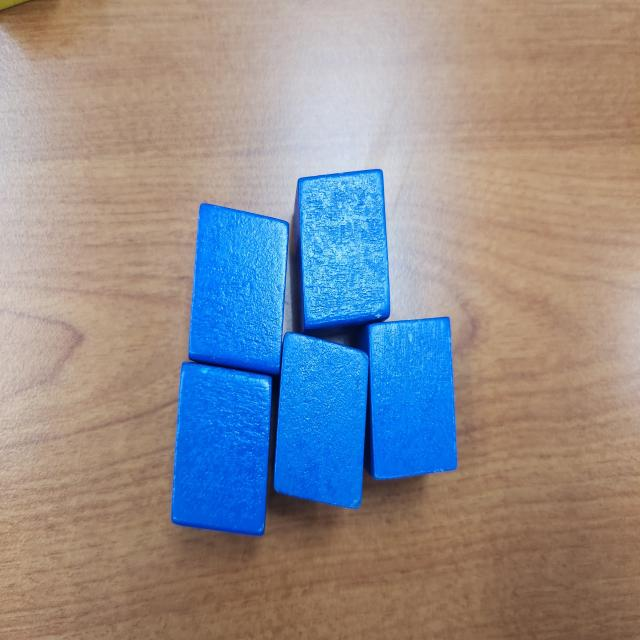blue: (171, 362, 277, 539), (268, 331, 370, 511), (188, 203, 290, 380), (291, 168, 391, 338), (363, 316, 457, 484)
